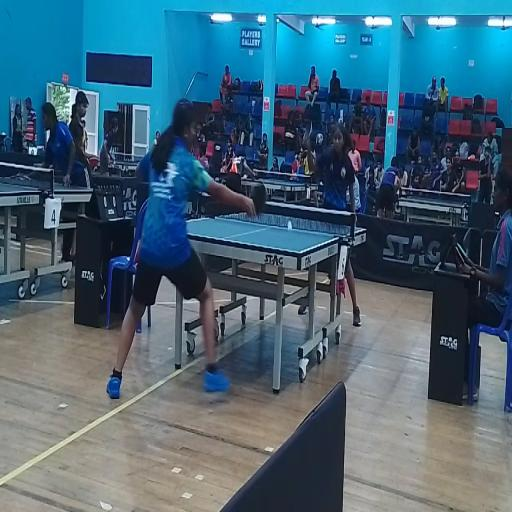ball: (288, 220, 292, 232)
